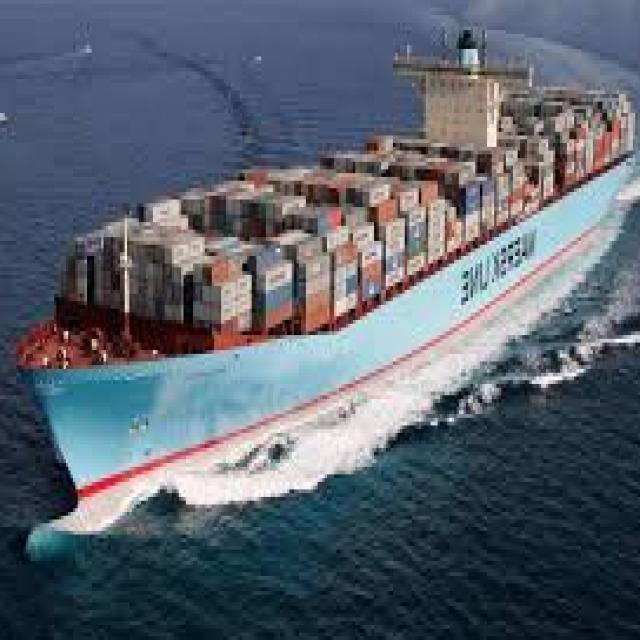cargoship: (35, 31, 636, 530)
